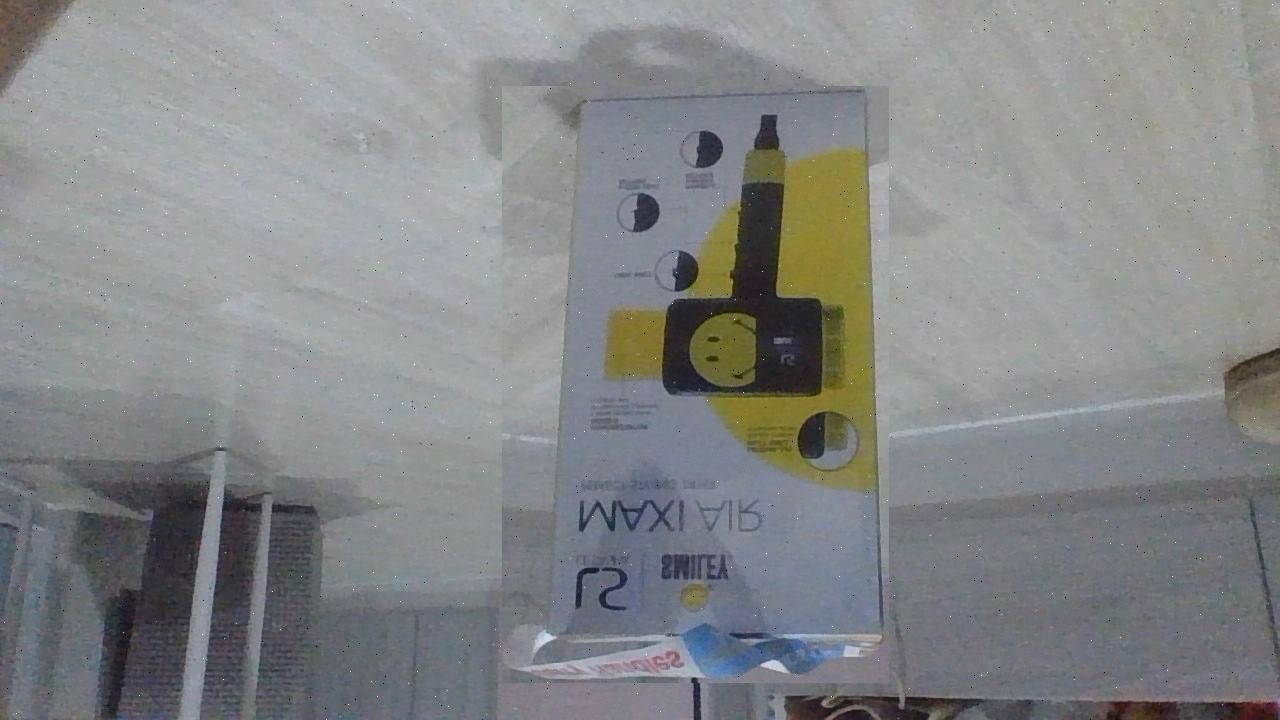IRON: (502, 86, 889, 683)
